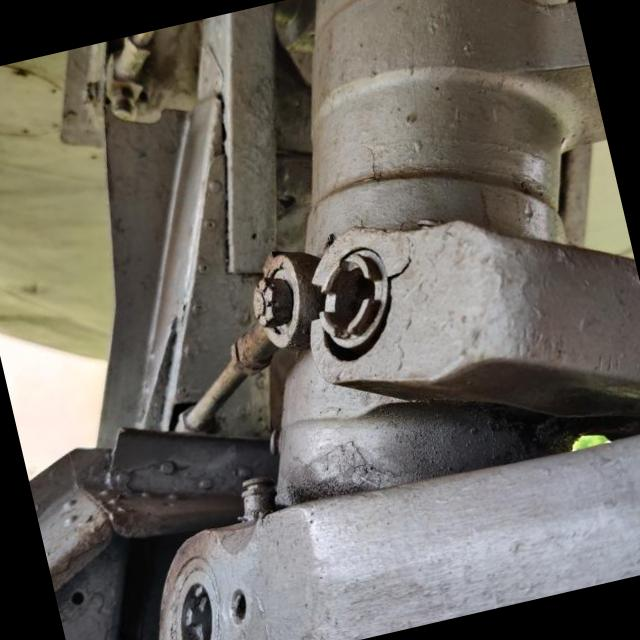Crack: (385, 240, 418, 283)
